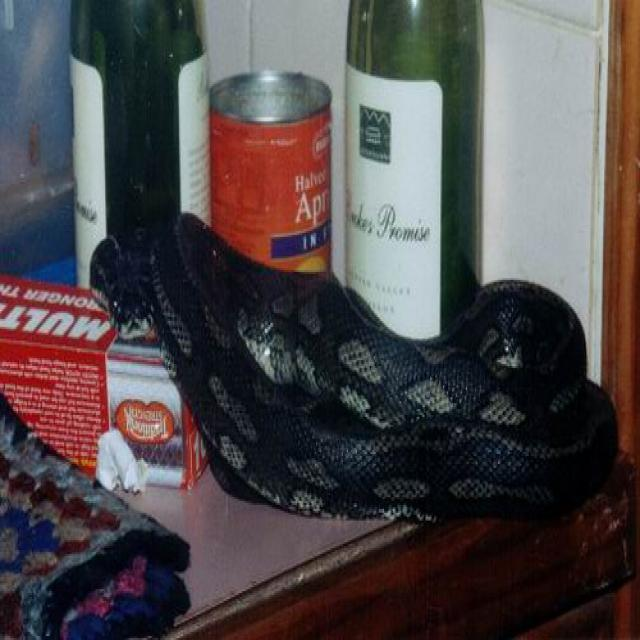bottle: (346, 1, 484, 344), (73, 1, 210, 293)
